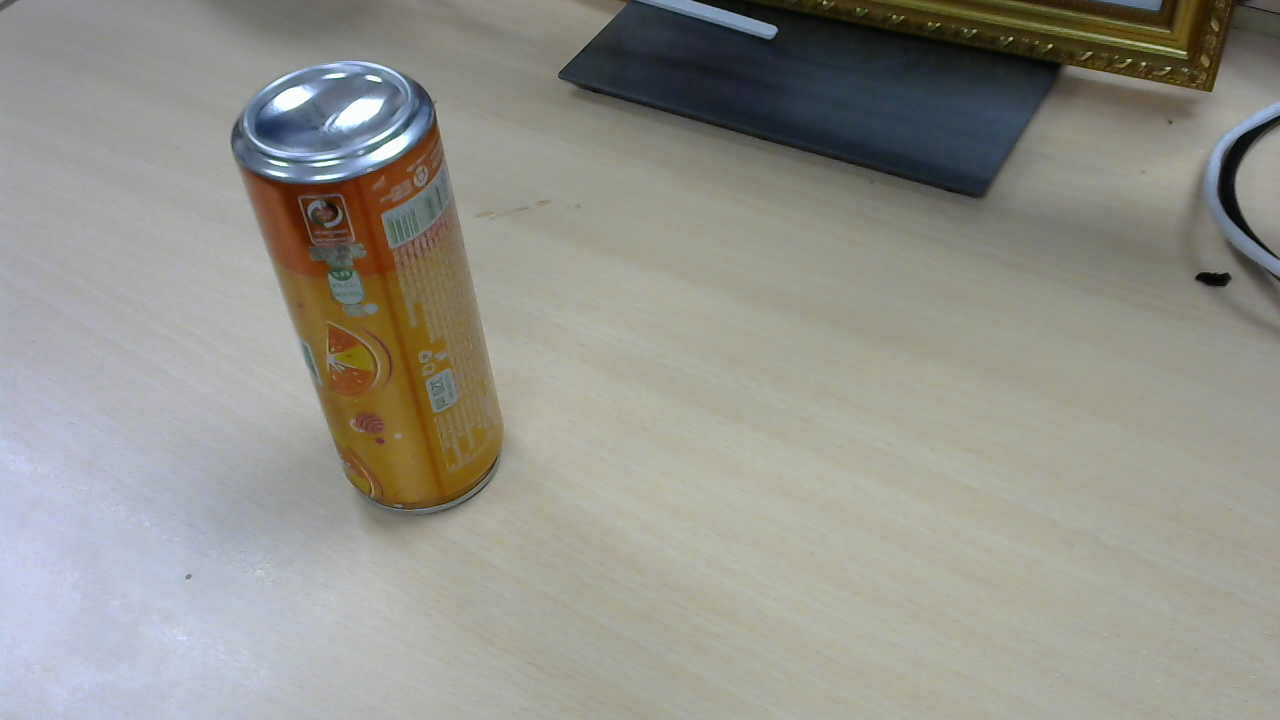Mirinda: (237, 59, 509, 516)
